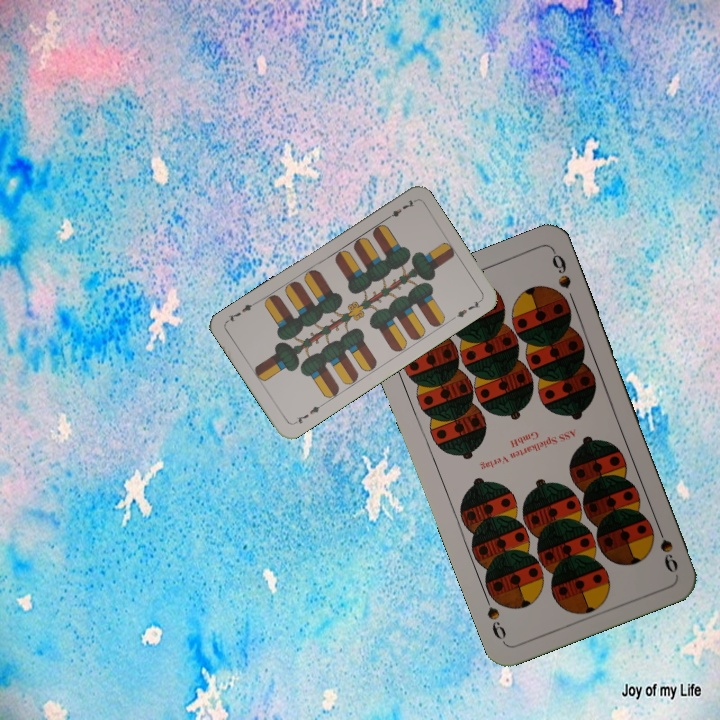E7: (290, 400, 326, 427), (381, 196, 417, 223)
S9: (651, 518, 681, 575)
